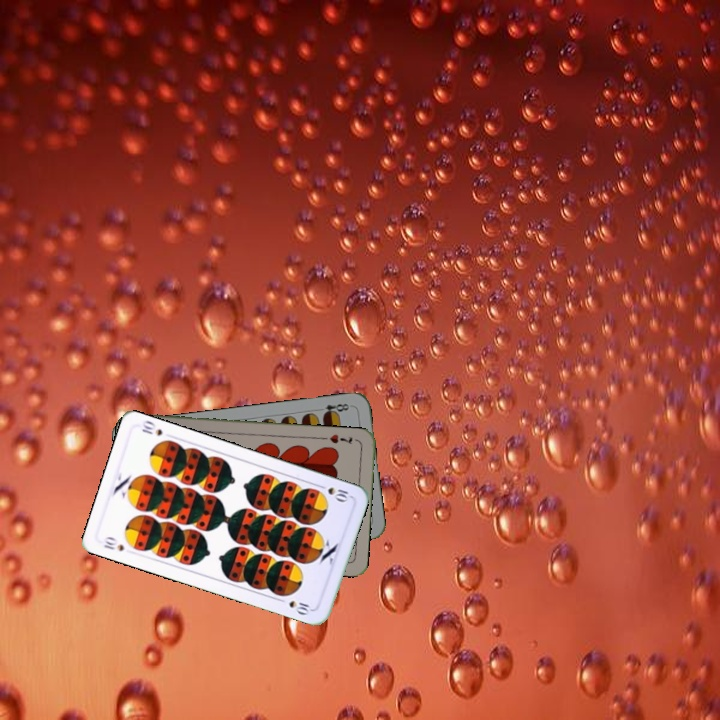E8: (314, 400, 354, 419)
H7: (326, 430, 355, 447)
S10: (314, 480, 353, 505), (100, 533, 126, 554)
